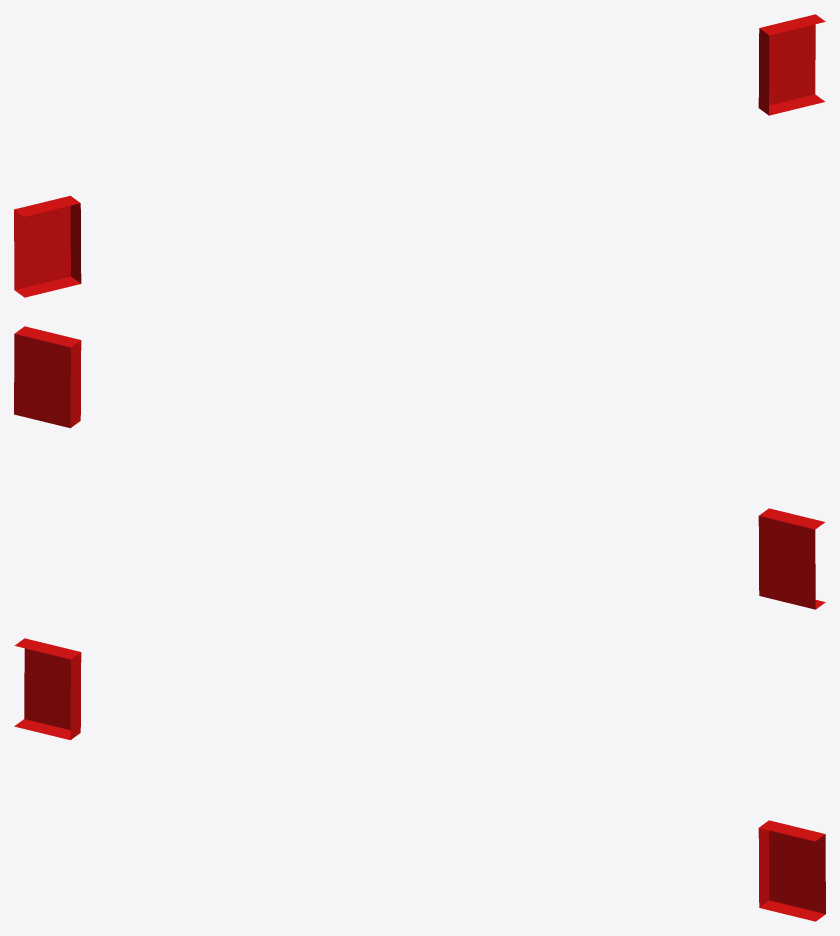
Rendered from Car3Stop.fbx.
3 renders of one model, top to bottom at view 1: azimuth 30°, elevation 25°; view 2: azimuth 150°, elevation 25°; view 3: azimuth 330°, elevation 25°, orthographic.
Visible parts, largest first — view 1: Car3Stop; view 2: Car3Stop; view 3: Car3Stop.
Boxes of the visible parts, x1,y1,x2,y2 form: Car3Stop: [14, 14, 825, 297]; Car3Stop: [14, 326, 825, 609]; Car3Stop: [14, 638, 825, 921].
Bounding box in the file's own units: 2.17 × 0.208 × 0.0501.
